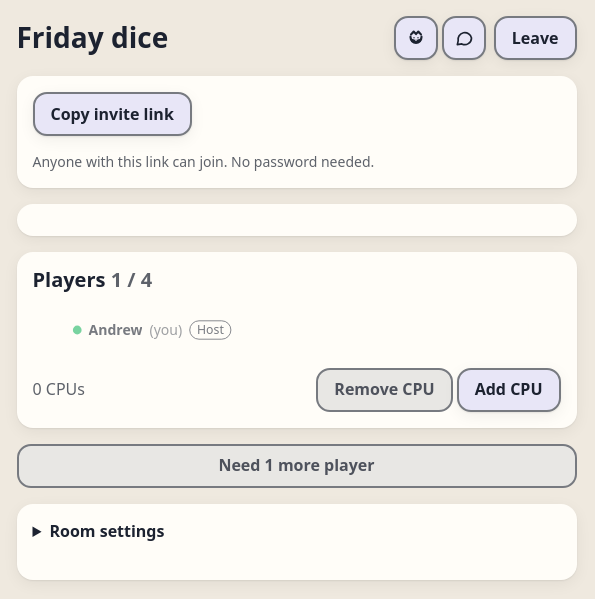
Scenario: Invite › copies on desktop even when navigator.share exists, then shows Copied!
The width and height of the screenshot is (595, 599).
What coordinates should you click on to do the following:
click the button "Copy invite link"
I would click on:
 (112, 114)
Its box is [32, 92, 192, 136].
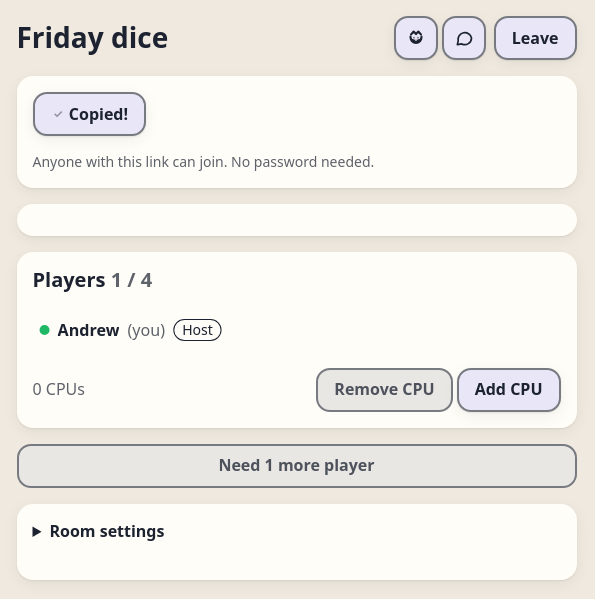
expect the button "✓ Copied!" is shown: met, box [32, 92, 146, 136]
